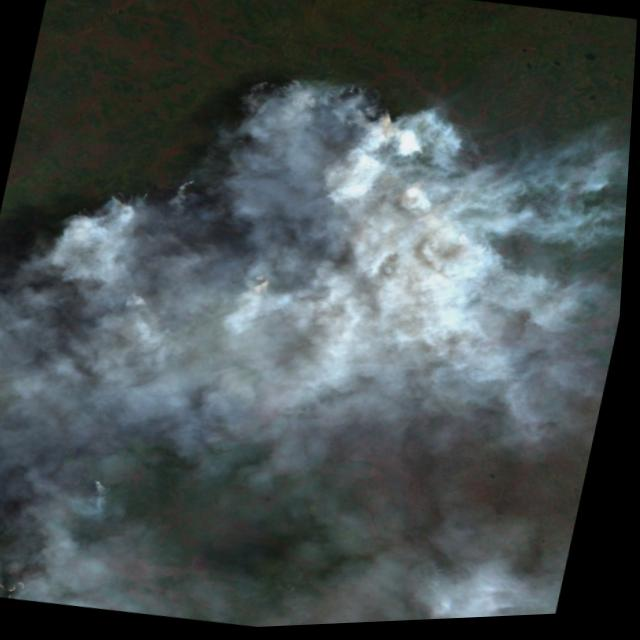fire: (34, 24, 553, 379)
